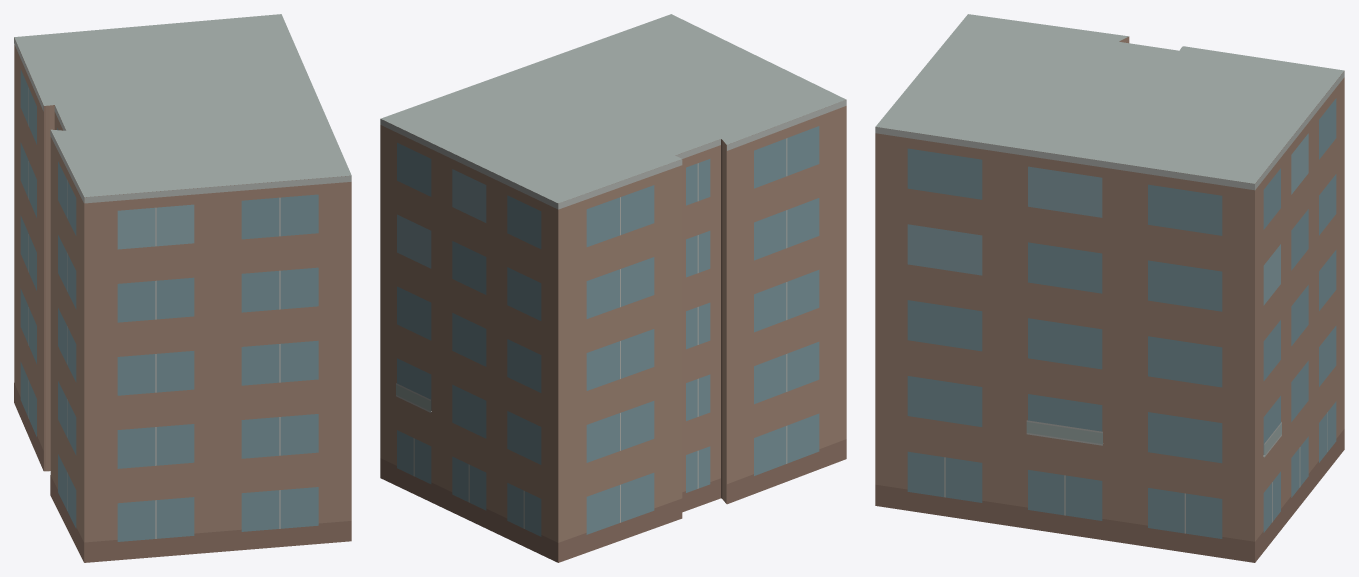
Rendered from survey-upis-32851048.glb.
The picture shows the model from 3 angles, left to right: view 1: azimuth 30°, elevation 25°; view 2: azimuth 150°, elevation 25°; view 3: azimuth 270°, elevation 25°; orthographic projection. The views are drawn at different scales.
Parts seen in each view (by area): view 1: survey-upis-32851048.tmp; view 2: survey-upis-32851048.tmp; view 3: survey-upis-32851048.tmp.
Part boxes in pixels (x1,y1,x2,y2): survey-upis-32851048.tmp: (14,14,351,562); survey-upis-32851048.tmp: (380,14,846,562); survey-upis-32851048.tmp: (875,14,1344,562).
Size of the model in its own units: 13.8 by 14.35 by 16.11.
